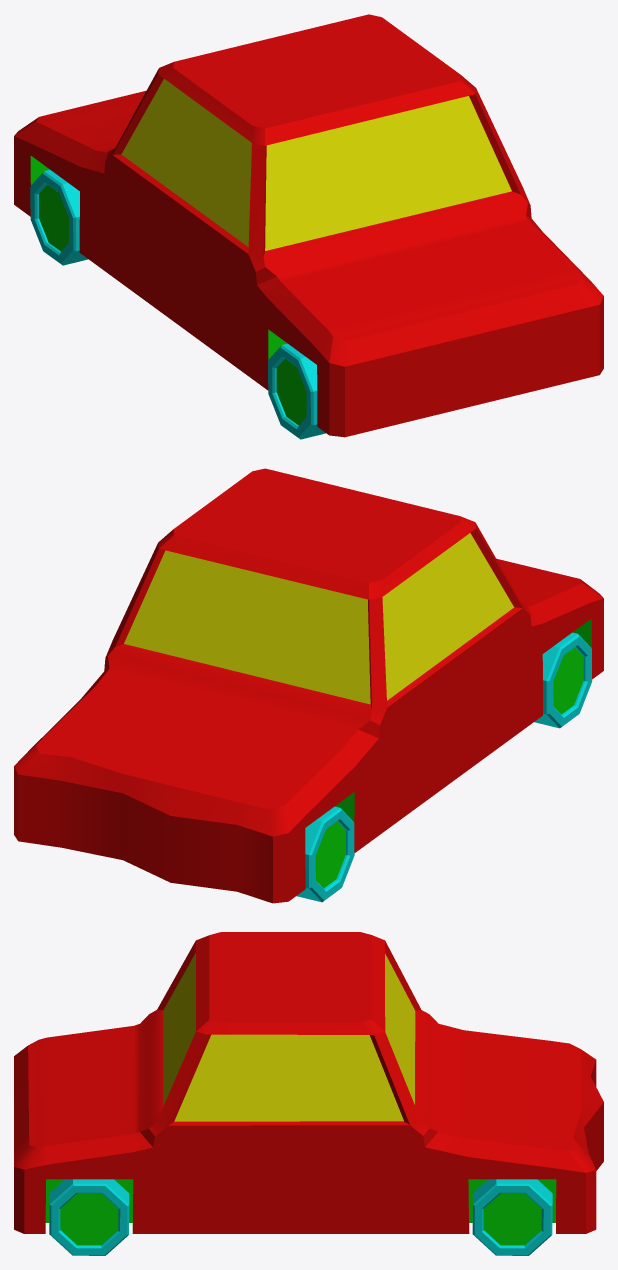
Rendered from WreckedCarC.fbx.
3 renders of one model, top to bottom at view 1: azimuth 30°, elevation 25°; view 2: azimuth 150°, elevation 25°; view 3: azimuth 270°, elevation 25°, orthographic. The views are drawn at different scales.
Parts seen in each view (by area): view 1: WreckedCarC; view 2: WreckedCarC; view 3: WreckedCarC.
Boxes of the visible parts, <box> form: WreckedCarC: <box>14,14,603,439</box>; WreckedCarC: <box>14,468,603,903</box>; WreckedCarC: <box>14,932,603,1255</box>.
Bounding box in the file's own units: 1.81 × 1.51 × 3.69.
